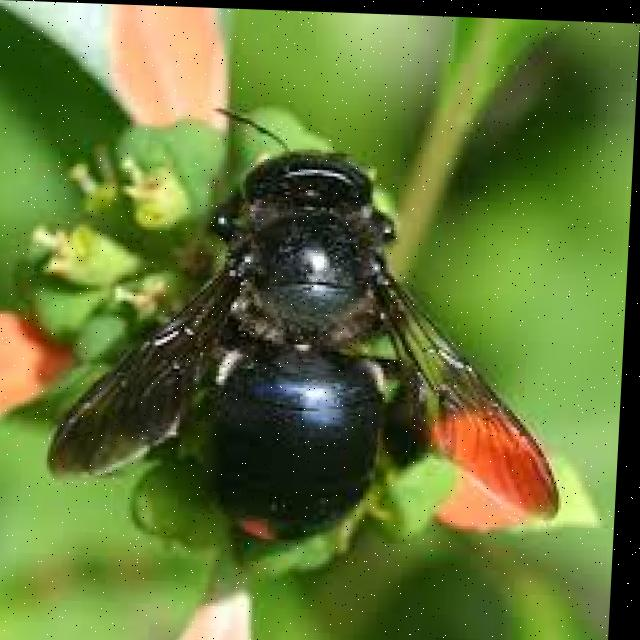Xylocopa: (55, 91, 607, 568)
